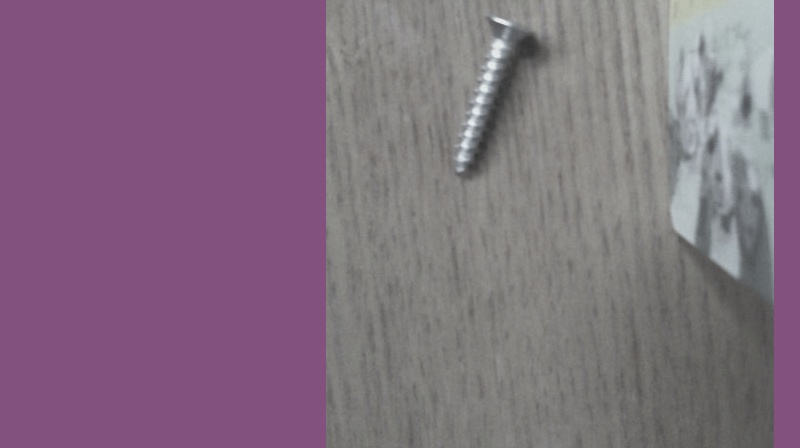S001: (449, 11, 538, 178)
